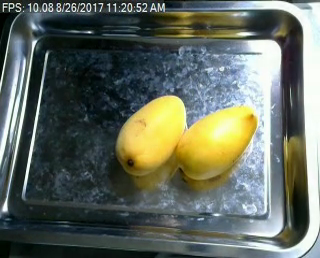Mango: (176, 107, 254, 178), (117, 94, 186, 172)
